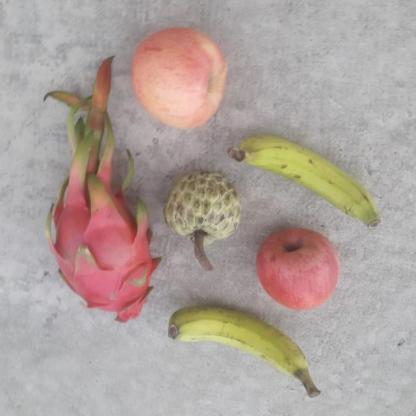annona: (162, 167, 243, 251)
apple: (129, 24, 230, 130), (256, 226, 340, 312)
banana: (168, 306, 321, 396), (237, 137, 382, 228)
pitaya: (46, 185, 156, 323)
